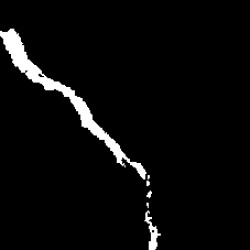crack: (0, 29, 162, 247)
